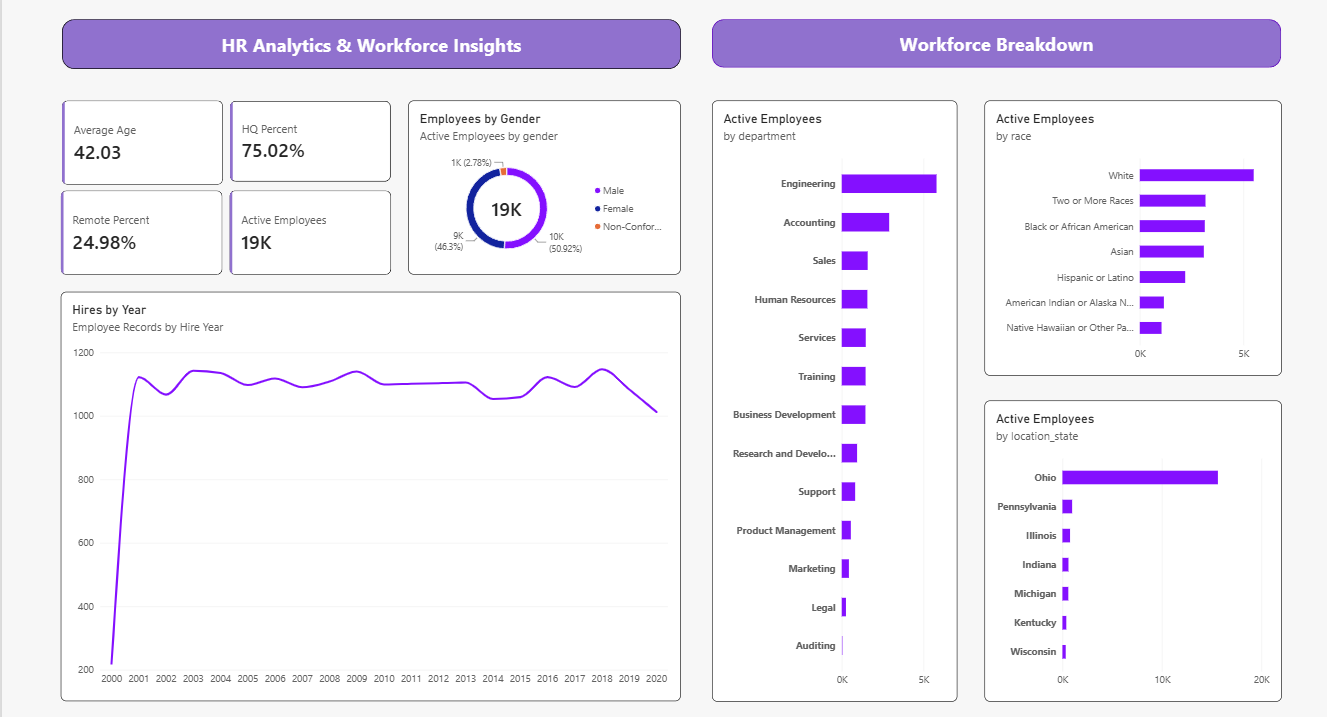

The page's visual inventory and layout, read from the dashboard file:
{"tool":"powerbi","page":{"name":"Overview","canvas":[1920,1080],"ordinal":0},"visuals":[{"type":"cardVisual","fields":{"Data":["HR.Active Employees"]},"box":[330,285.8,234.2,122.5],"z":0},{"type":"cardVisual","fields":{"Data":["HR.Remote Percent"]},"box":[85.8,285.8,234.2,122.5],"z":2000},{"type":"cardVisual","fields":{"Data":["HR.HQ Percent"]},"box":[330,155.8,234.2,118.3],"z":3000},{"type":"lineChart","title":"Hires by Year","fields":{"Category":["HR.Hire Year"],"Y":["HR.Employee Records"]},"box":[85,432.5,897.5,592.5],"z":4000},{"type":"donutChart","title":"Employees by Gender","fields":{"Category":["HR.gender"],"Y":["HR.Active Employees"]},"box":[587.8,155.6,394.4,252.2],"z":5000},{"type":"shape","title":"HR Analytics & Workforce Insights","box":[86,38,896,72],"z":6000},{"type":"clusteredBarChart","fields":{"Category":["HR.location_state"],"Y":["HR.Active Employees"]},"box":[1422,590,430,436],"z":7000},{"type":"clusteredBarChart","fields":{"Category":["HR.race"],"Y":["HR.Active Employees"]},"box":[1422,156,430,398],"z":8000},{"type":"clusteredBarChart","fields":{"Category":["HR.department"],"Y":["HR.Active Employees"]},"box":[1027.5,155,355,870],"z":9000},{"type":"shape","title":"HR Analytics & Workforce Insights","box":[1028,38,824,70],"z":10000},{"type":"cardVisual","fields":{"Data":["HR.Average Age"]},"box":[86.2,156.2,233.8,122.3],"z":10001}]}

Visuals, with their boxes in screenshot pixels (x1, y1, x2, y2):
cardVisual - HR.Active Employees: bbox=(241, 187, 399, 270)
cardVisual - HR.Remote Percent: bbox=(75, 187, 234, 270)
cardVisual - HR.HQ Percent: bbox=(241, 99, 399, 179)
"Hires by Year" lineChart: bbox=(75, 286, 683, 687)
"Employees by Gender" donutChart: bbox=(415, 98, 682, 269)
"HR Analytics & Workforce Insights" shape: bbox=(76, 19, 682, 68)
clusteredBarChart - HR.location_state x HR.Active Employees: bbox=(980, 393, 1271, 688)
clusteredBarChart - HR.race x HR.Active Employees: bbox=(980, 99, 1271, 368)
clusteredBarChart - HR.department x HR.Active Employees: bbox=(713, 98, 954, 687)
"HR Analytics & Workforce Insights" shape: bbox=(713, 19, 1271, 66)
cardVisual - HR.Average Age: bbox=(76, 99, 234, 182)
